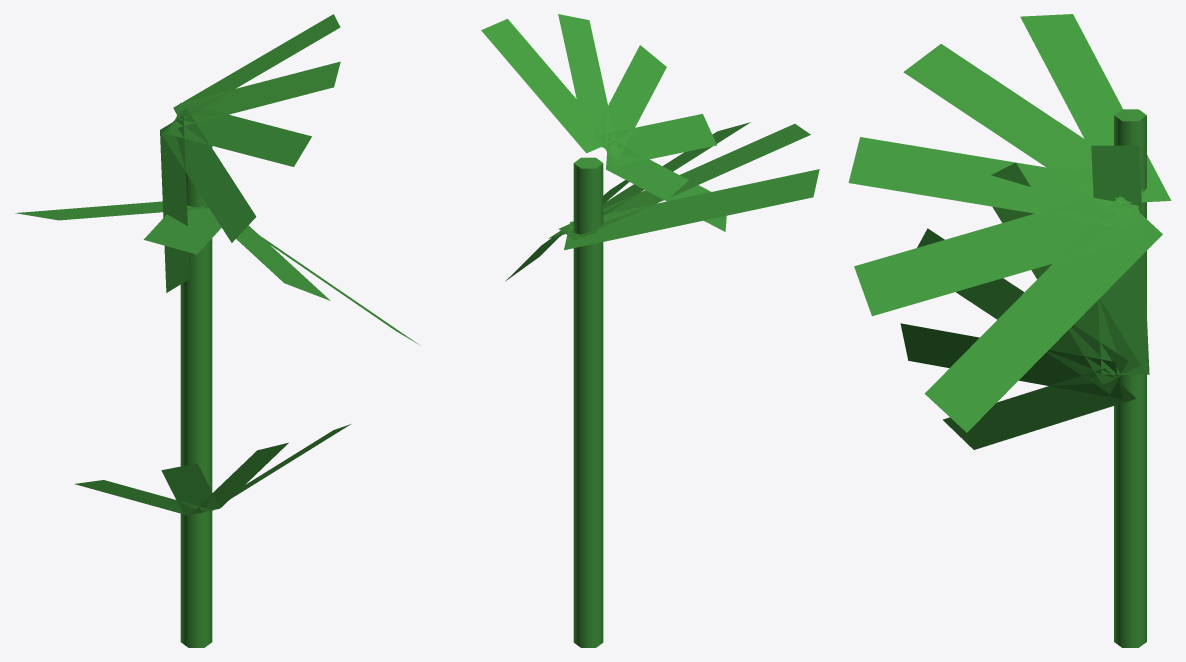
File: plant-stage--early-veg.glb
The picture shows the model from 3 angles, left to right: view 1: azimuth 30°, elevation 25°; view 2: azimuth 150°, elevation 25°; view 3: azimuth 270°, elevation 25°; orthographic projection. The views are drawn at different scales.
Visible parts, largest first — view 1: plant_leaves, plant_stem; view 2: plant_leaves, plant_stem; view 3: plant_leaves, plant_stem.
Boxes of the visible parts, x1,y1,x2,y2 form: plant_leaves: (15, 14, 418, 515); plant_stem: (180, 145, 212, 647); plant_leaves: (481, 14, 819, 281); plant_stem: (573, 157, 603, 647); plant_leaves: (848, 14, 1171, 449); plant_stem: (1114, 109, 1146, 647).
Size of the model in its own units: 0.1403 by 0.2166 by 0.1.
